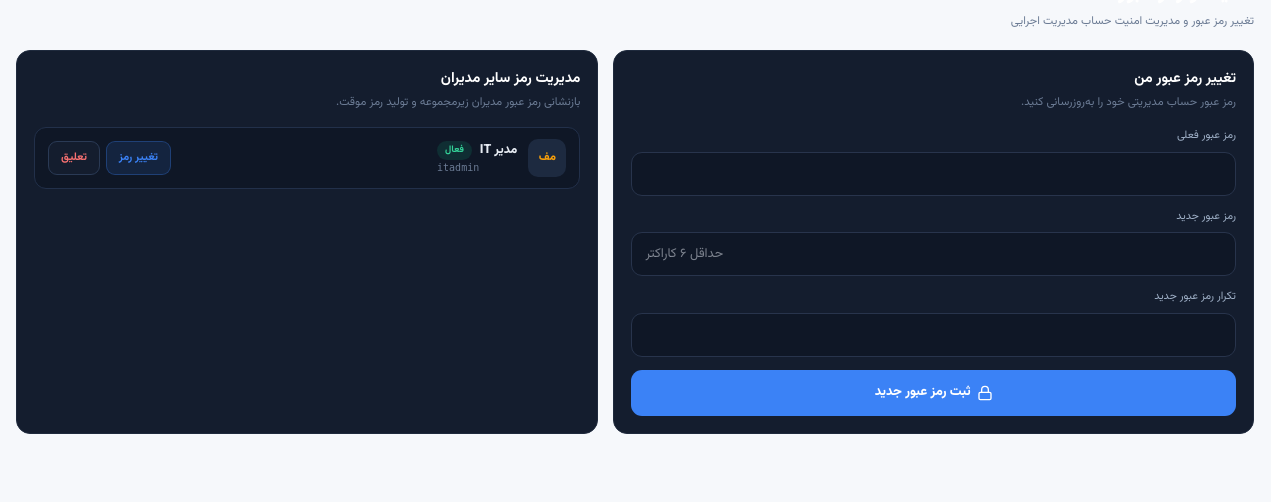
Scenario: OwnSecurityPage › validates the confirm field, then changes the own password via the real endpoint
Step 1. Type "Blujet@1404" into the password field labelled "رمز عبور فعلی" → (934, 174), box [631, 152, 1236, 196]
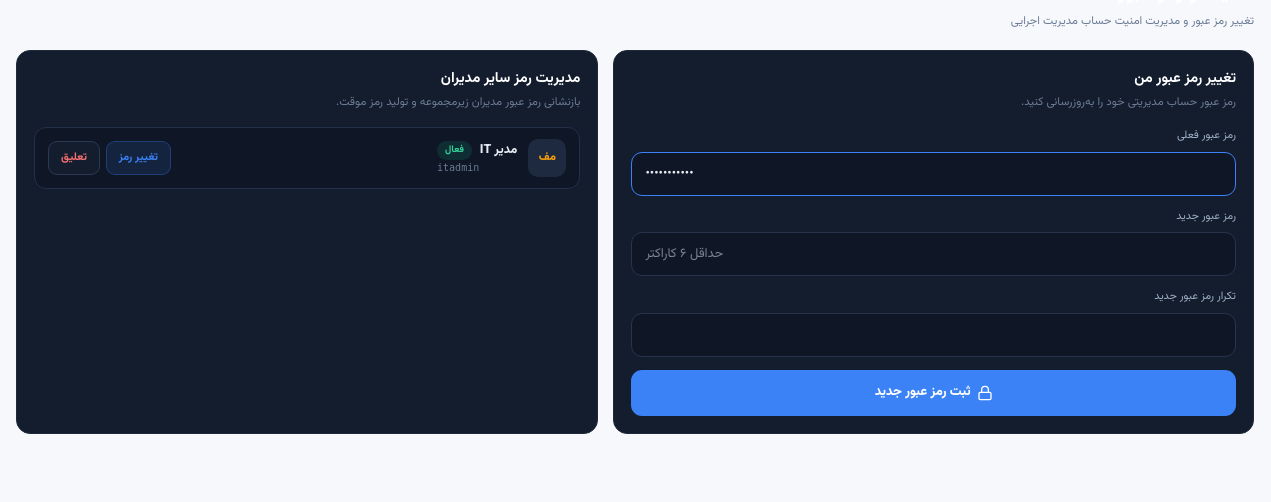
Step 2. Type "Next@123456" into the password field labelled "رمز عبور جدید" → (934, 254), box [631, 232, 1236, 276]
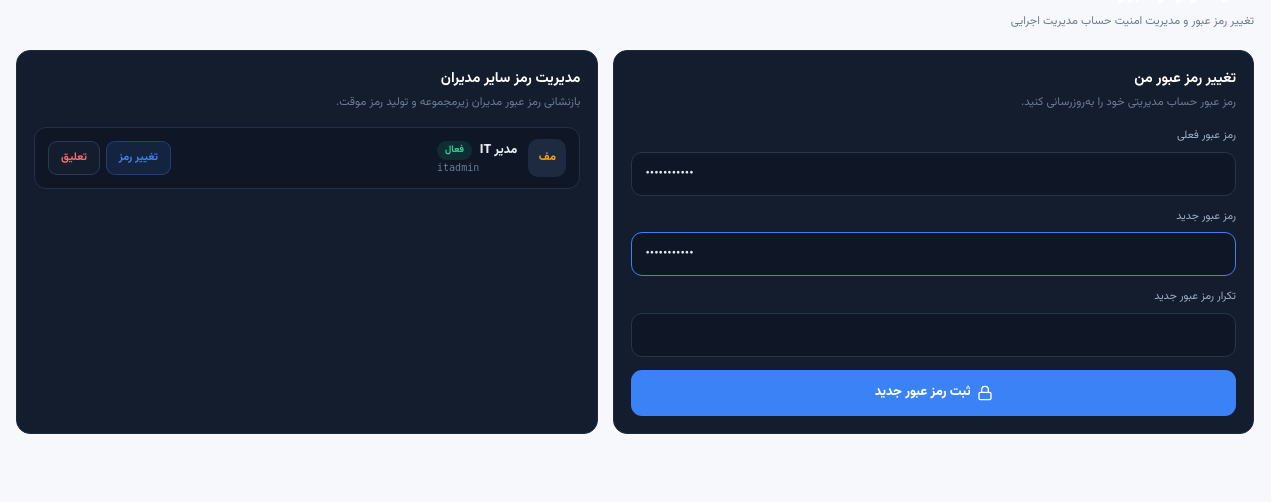
Step 3. Type "MISMATCH" into the password field labelled "تکرار رمز عبور جدید" → (934, 334), box [631, 312, 1236, 356]
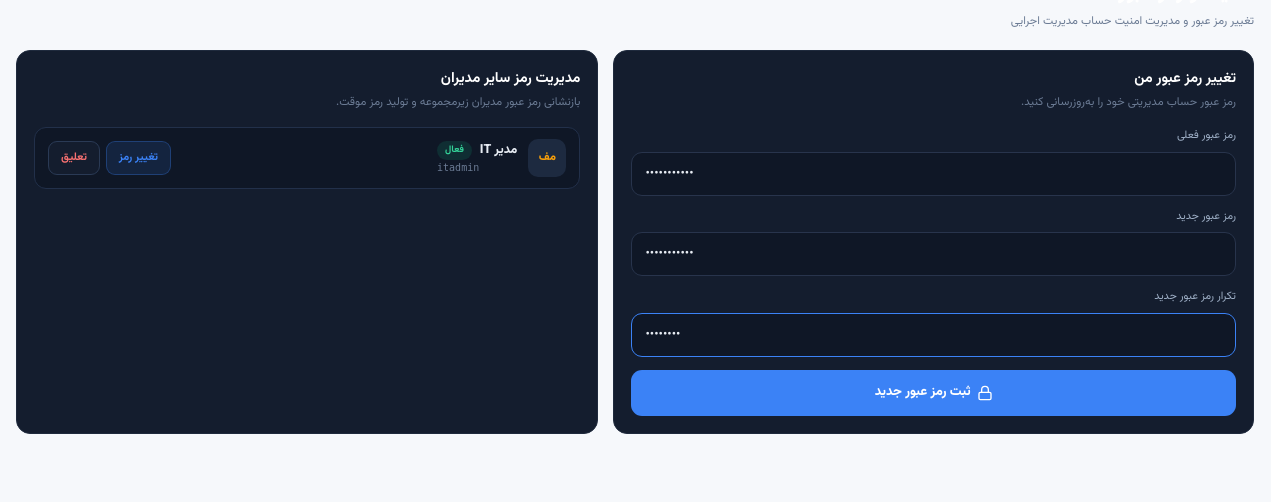
Step 4. Click the button "ثبت رمز عبور جدید" → (934, 392), box [631, 370, 1236, 416]
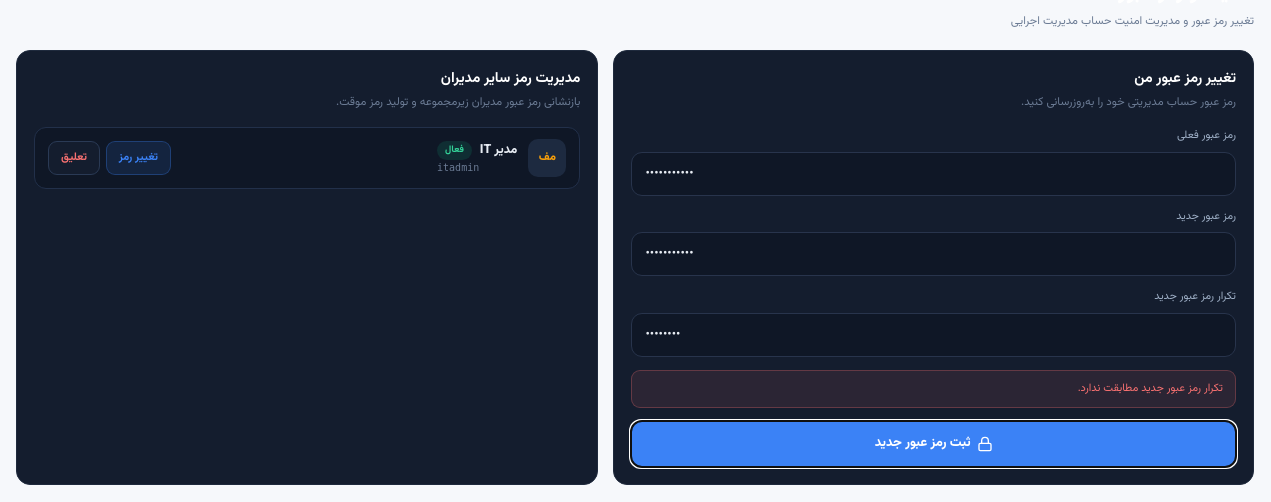
Result: the message reads "تکرار رمز عبور جدید مطابقت ندارد." at [1078, 380, 1223, 396]
Step 5. Type "Next@123456" into the password field labelled "تکرار رمز عبور جدید" → (934, 334), box [631, 312, 1236, 356]
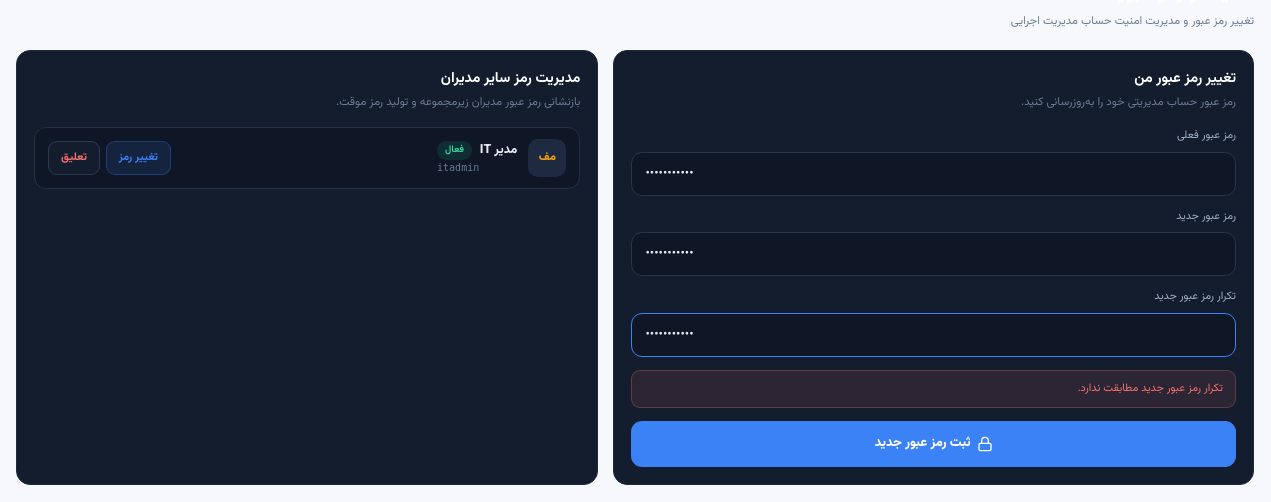
Step 6. Click the button "ثبت رمز عبور جدید" → (934, 444), box [631, 421, 1236, 467]
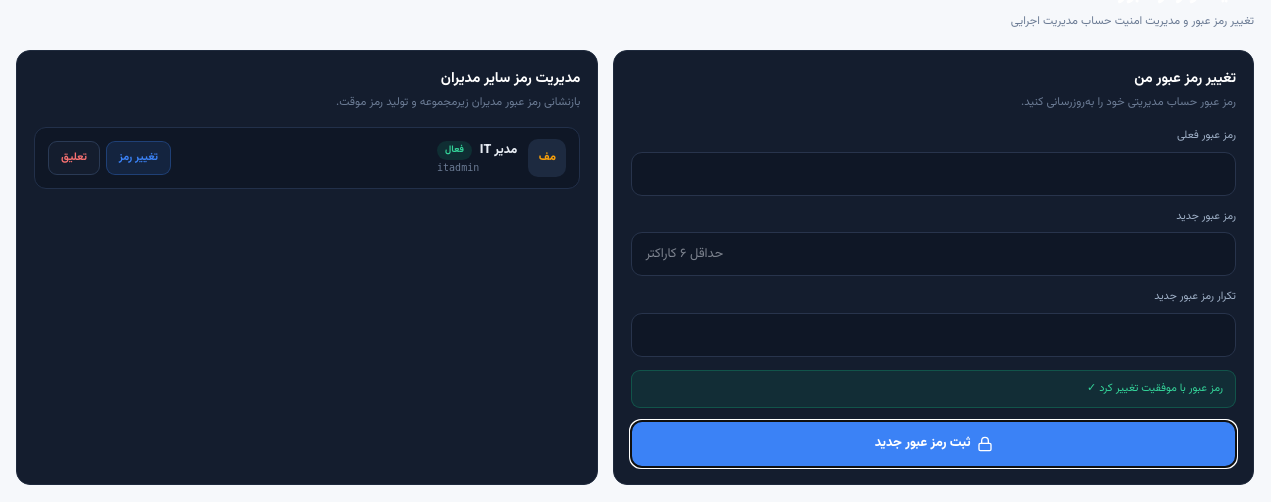
Result: the text "رمز عبور با موفقیت تغییر کرد ✓" is shown at [631, 370, 1236, 408]
